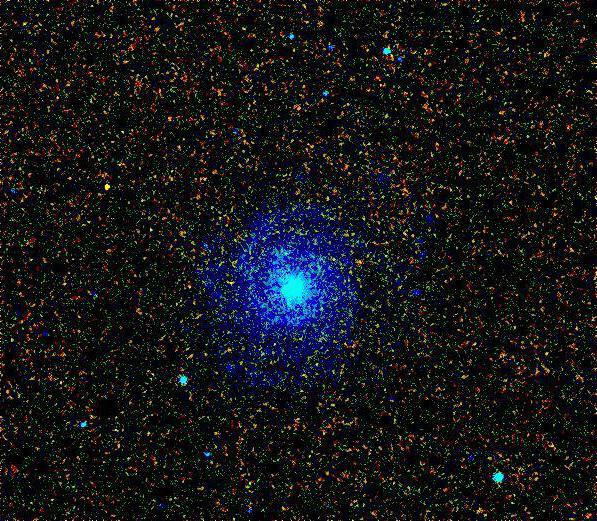star: (93, 174, 123, 204)
